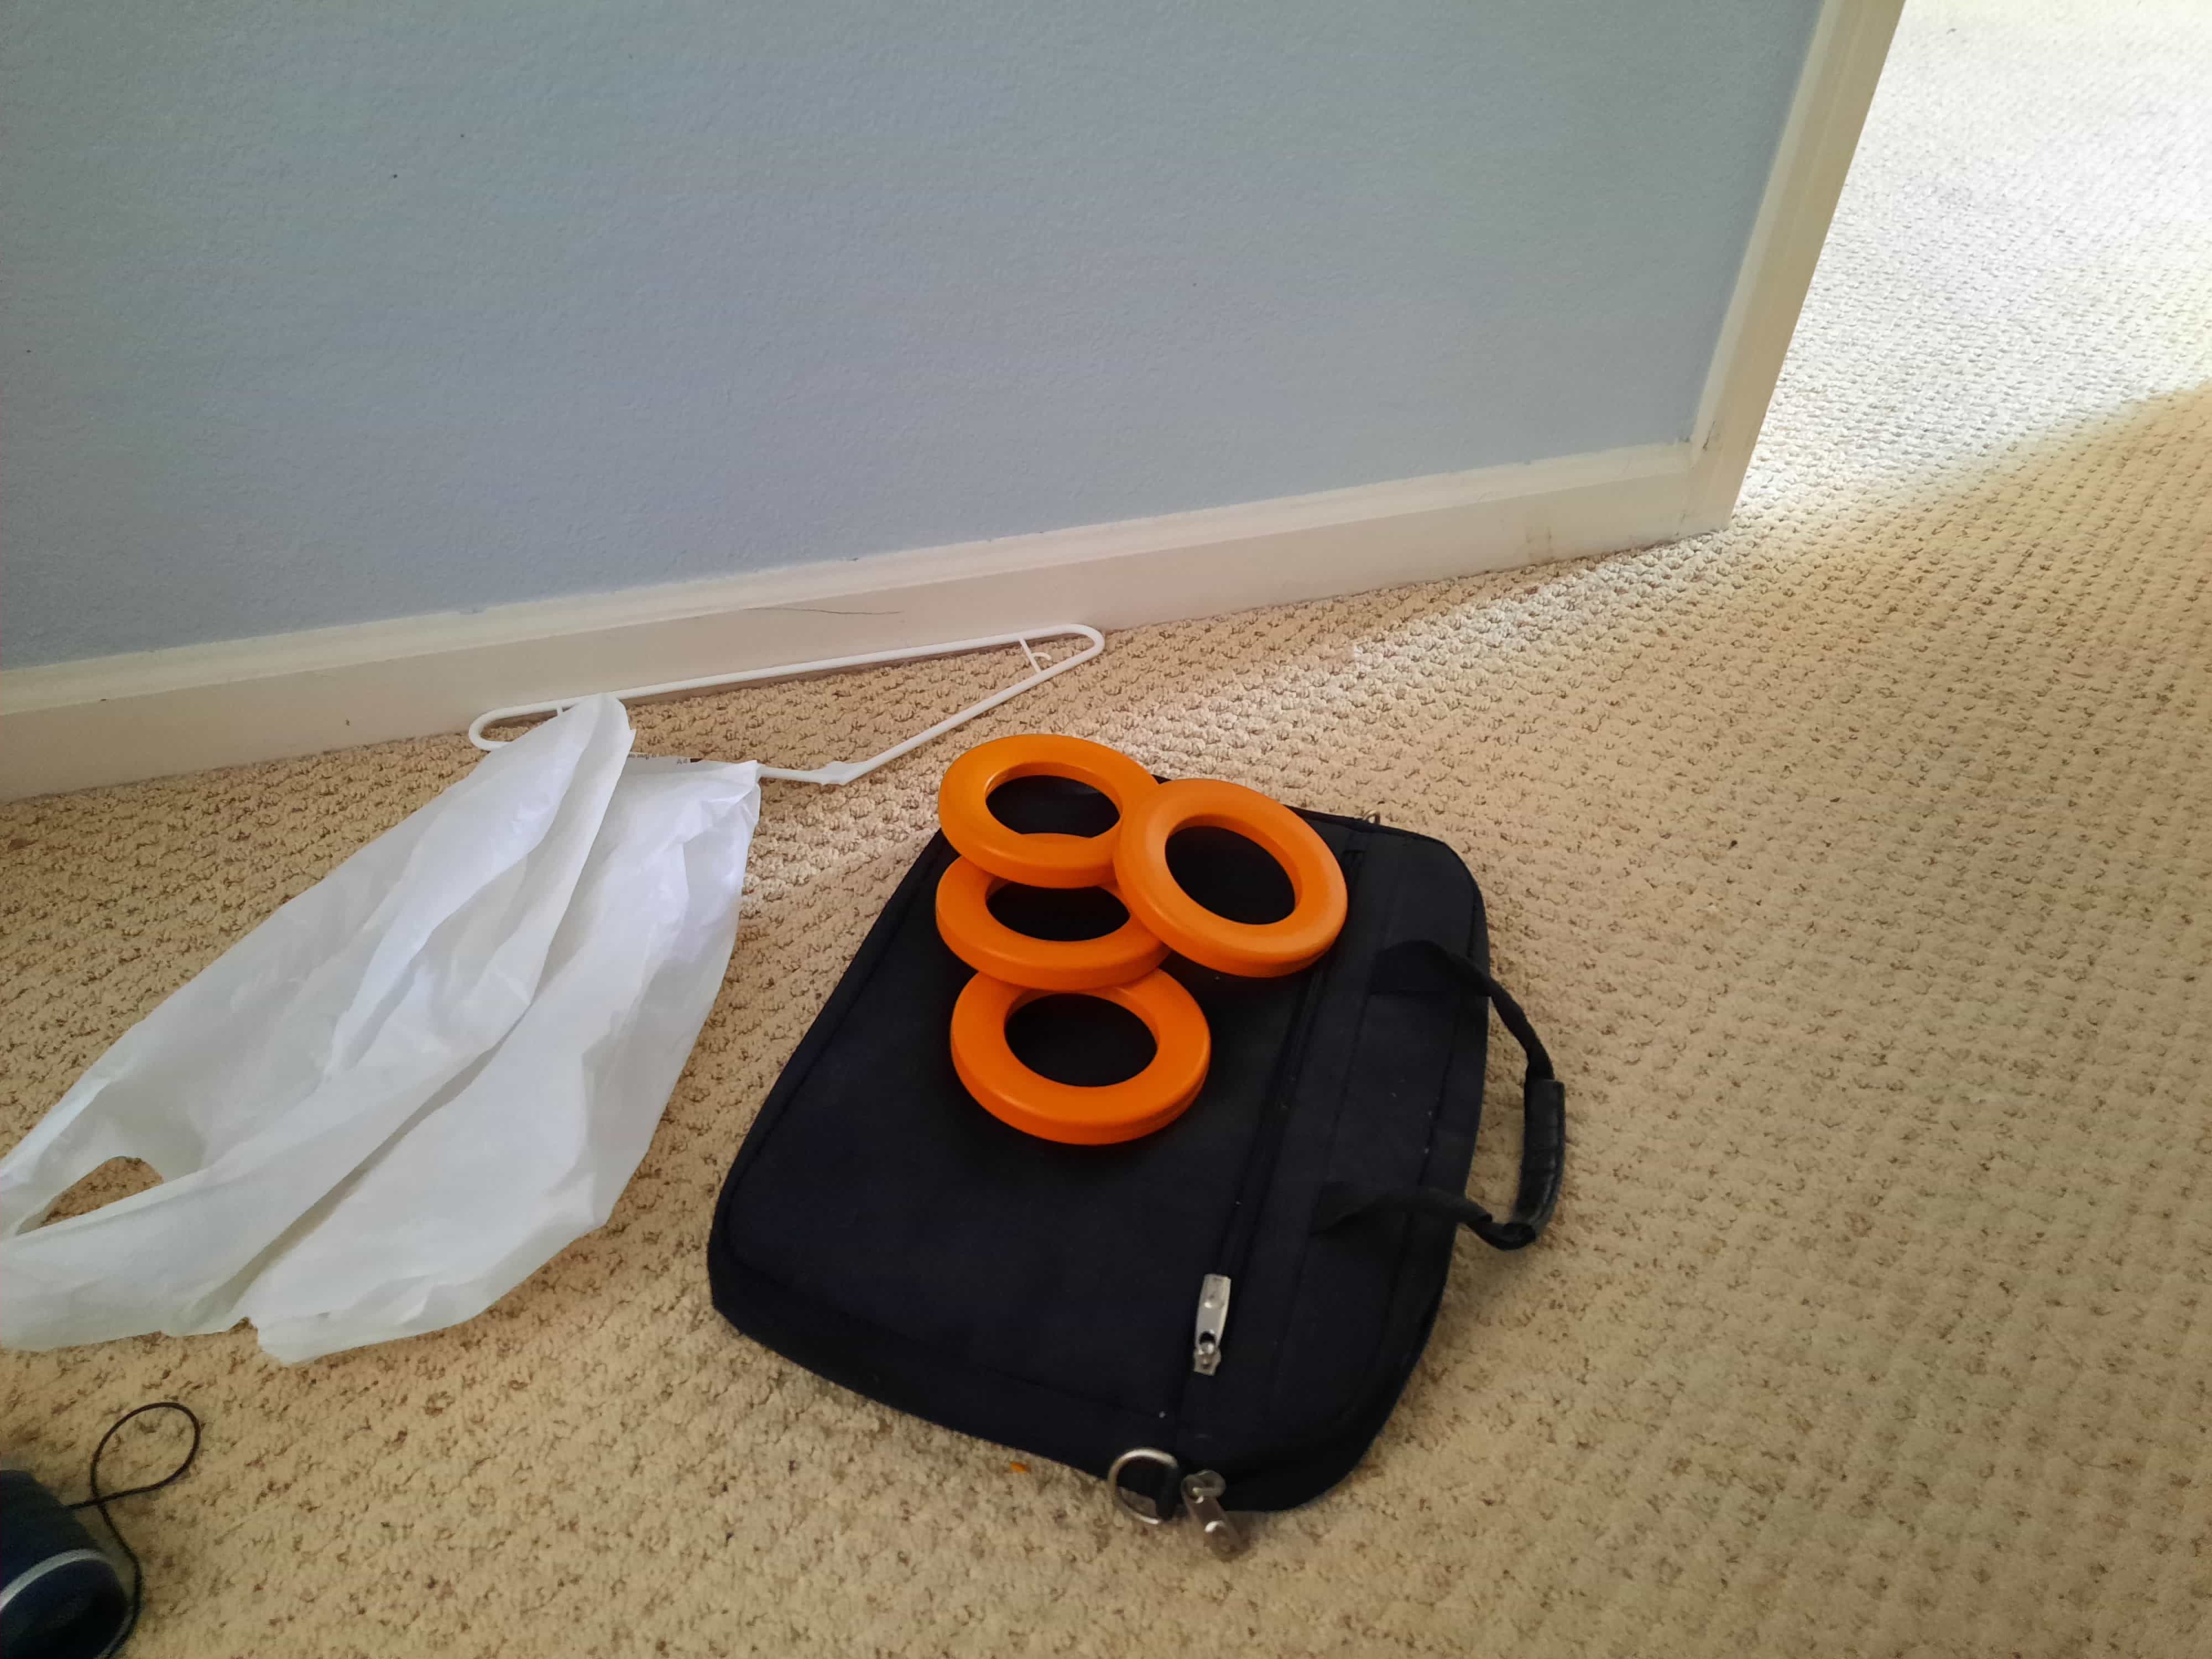OneStack: (953, 981, 1217, 1138), (1127, 782, 1355, 962), (930, 859, 1158, 986), (942, 732, 1151, 863)
